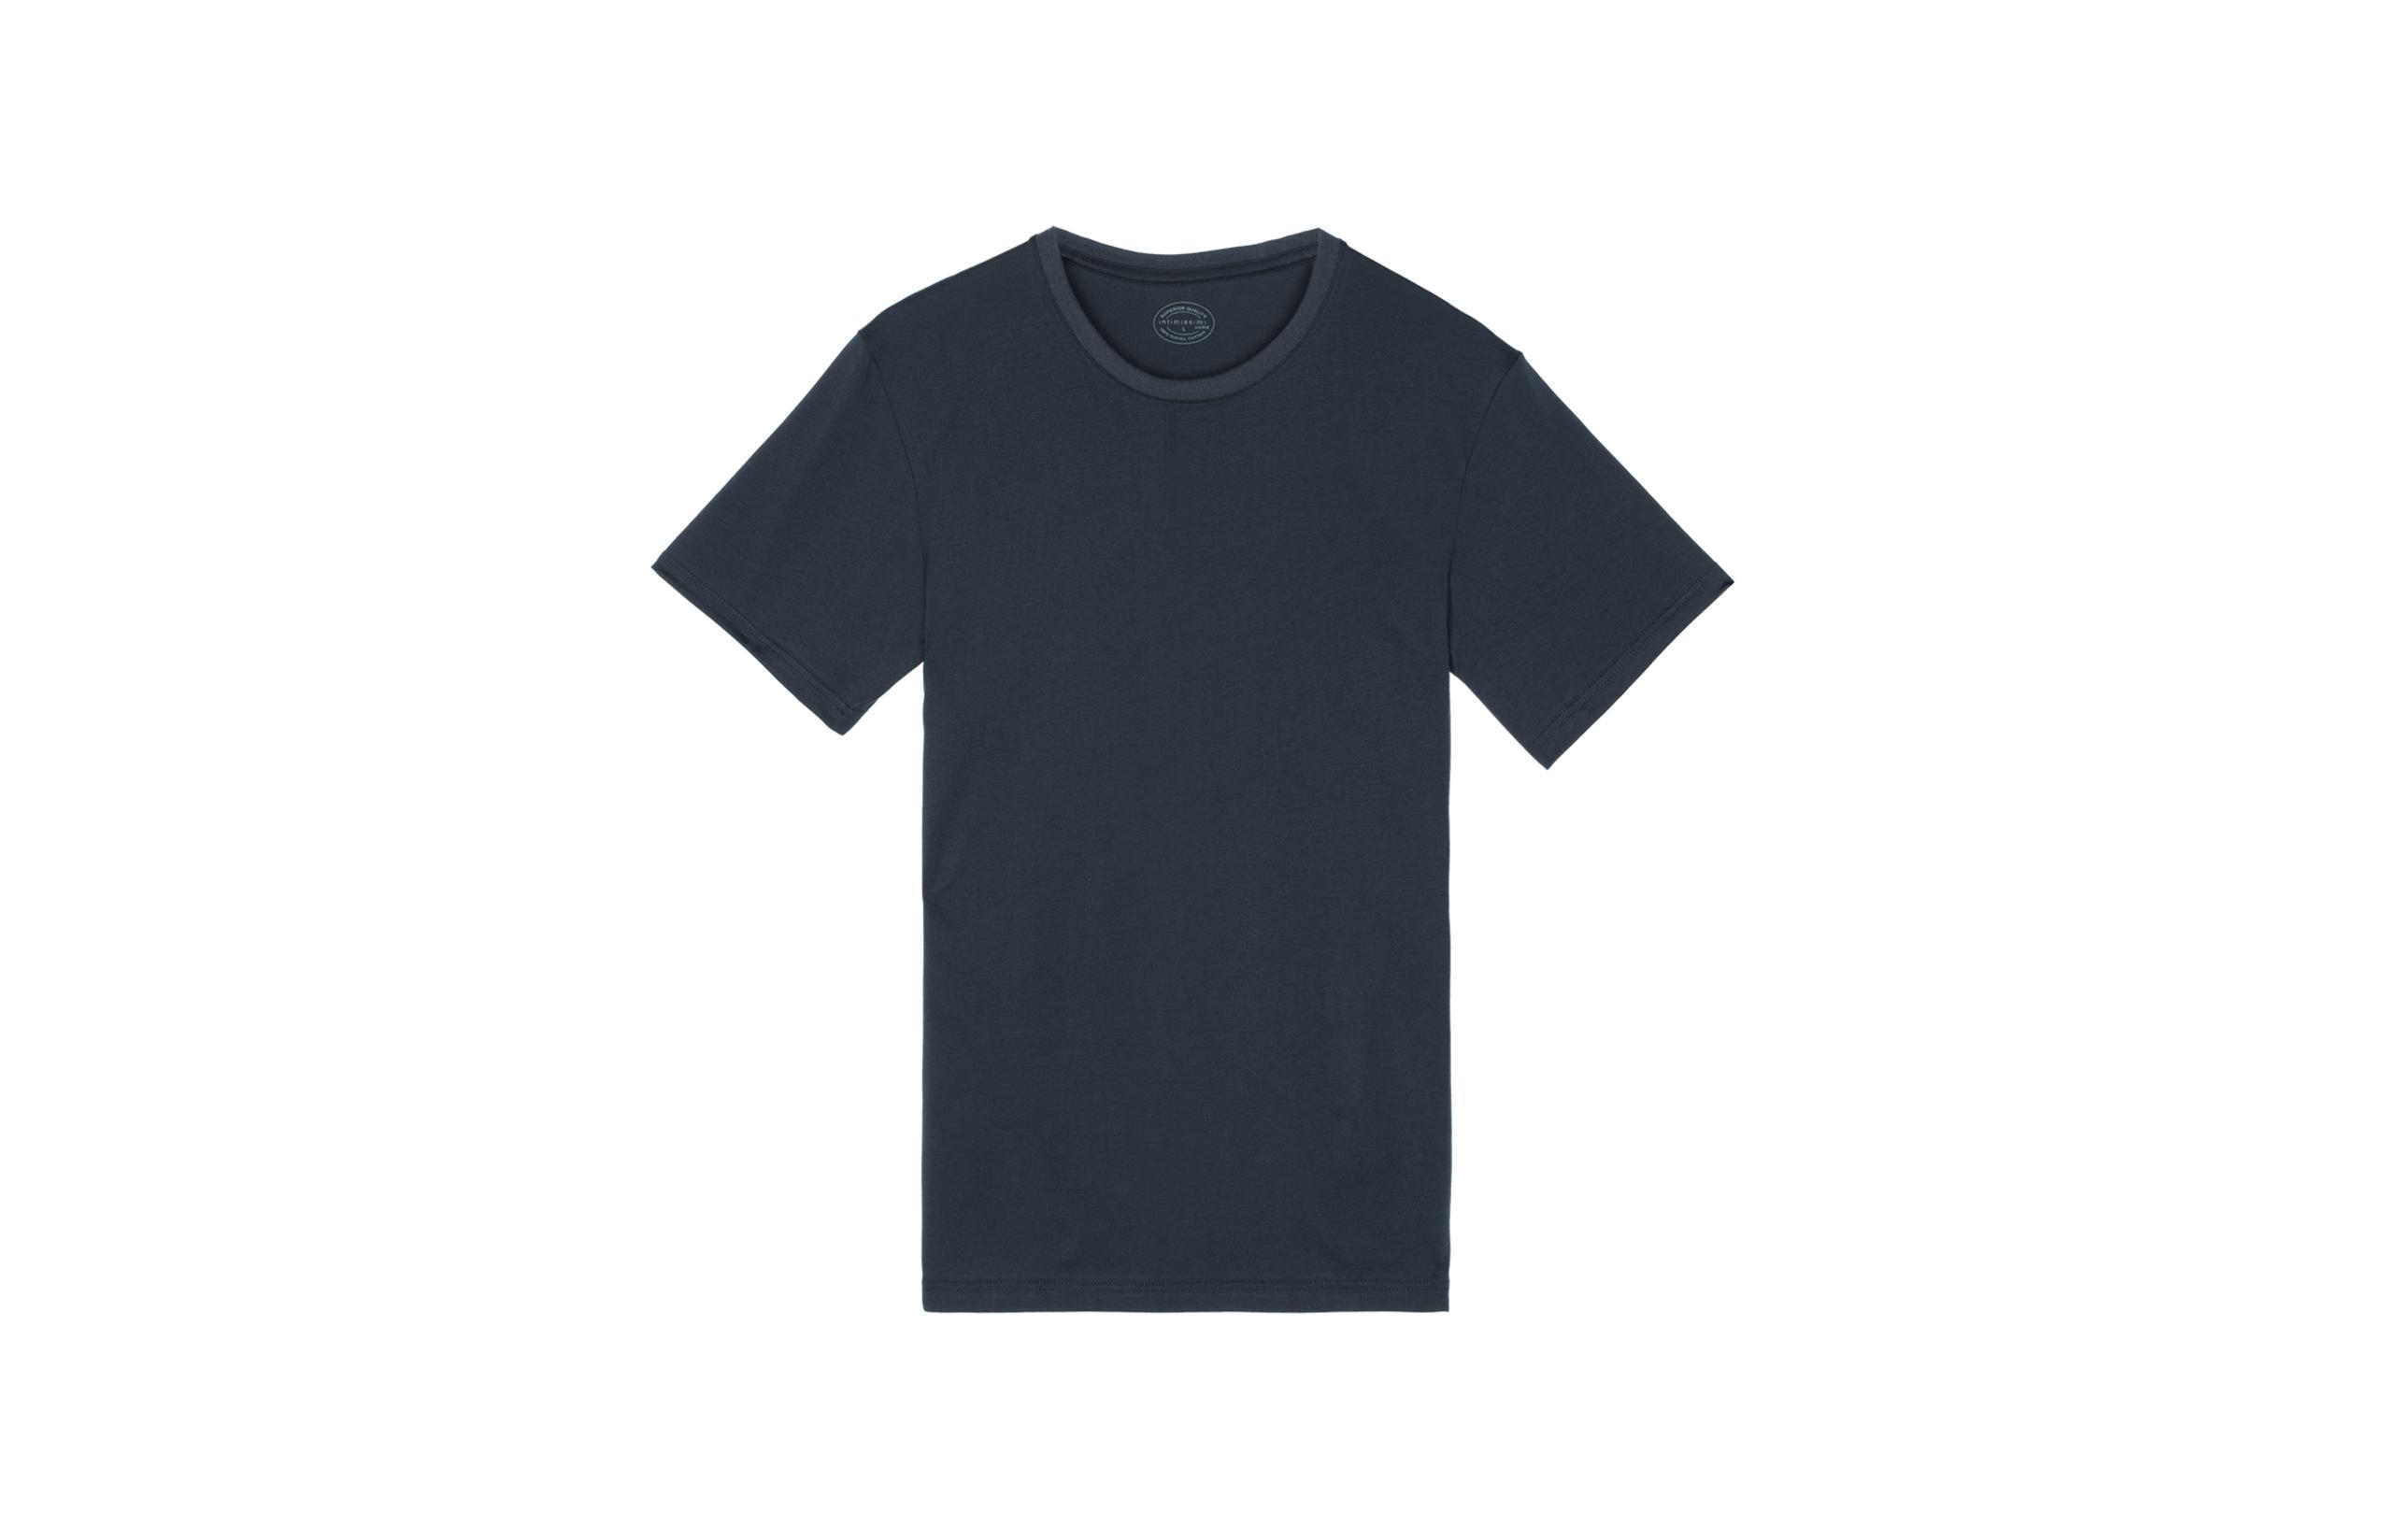teeshirt: (7, 7, 2376, 1533)
